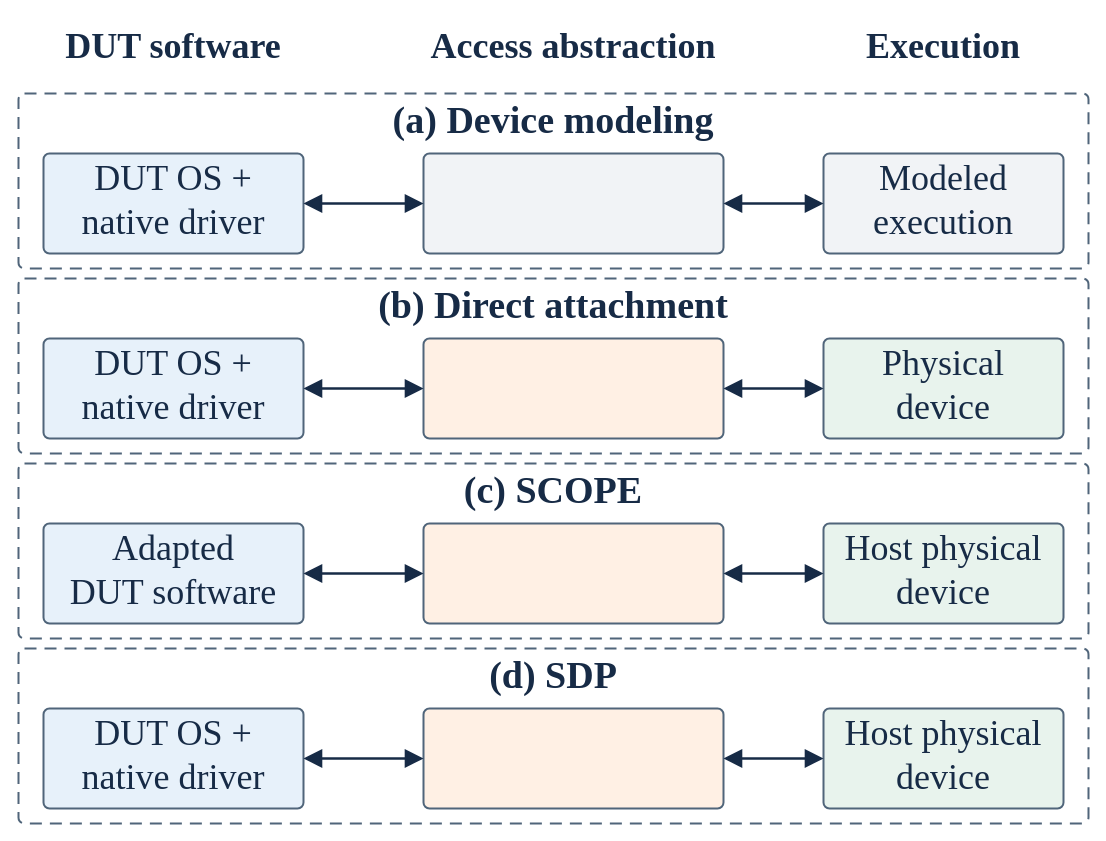
The diagram is 1106 pixels wide and 841 high, and some of its shapes have lost their labels. Each missing label, with the centre of its shape:
Attached device view: pixel 573 388
Command routing: pixel 573 573
Device model: pixel 573 203
Selected device view: pixel 573 758
